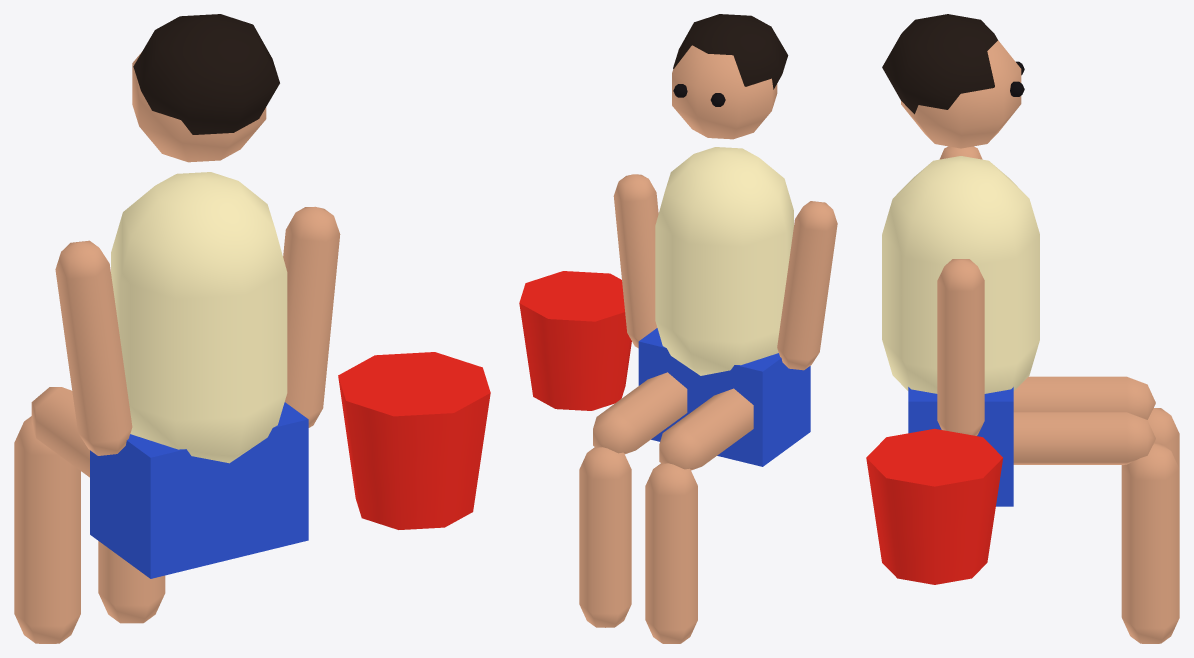
Rendered from tito_margem.glb.
3 renders of one model, left to right at view 1: azimuth 30°, elevation 25°; view 2: azimuth 150°, elevation 25°; view 3: azimuth 270°, elevation 25°, orthographic. The views are drawn at different scales.
Parts seen in each view (by area): view 1: _MeshInstance3D_7429_12, _MeshInstance3D_7430_11, _MeshInstance3D_7441_0, _MeshInstance3D_7438_3, _MeshInstance3D_7432_9, _MeshInstance3D_7435_6, _MeshInstance3D_7436_5, _MeshInstance3D_7437_4, _MeshInstance3D_7434_7, _MeshInstance3D_7431_10; view 2: _MeshInstance3D_7429_12, _MeshInstance3D_7441_0, _MeshInstance3D_7430_11, _MeshInstance3D_7434_7, _MeshInstance3D_7432_9, _MeshInstance3D_7435_6, _MeshInstance3D_7437_4, _MeshInstance3D_7436_5, _MeshInstance3D_7438_3, _MeshInstance3D_7431_10, _MeshInstance3D_7433_8; view 3: _MeshInstance3D_7429_12, _MeshInstance3D_7441_0, _MeshInstance3D_7434_7, _MeshInstance3D_7438_3, _MeshInstance3D_7436_5, _MeshInstance3D_7433_8, _MeshInstance3D_7437_4, _MeshInstance3D_7431_10, _MeshInstance3D_7430_11, _MeshInstance3D_7432_9.
Boxes of the visible parts, box(x1,y1,x2,y2) form: _MeshInstance3D_7429_12: box(111, 172, 287, 463); _MeshInstance3D_7430_11: box(90, 402, 308, 578); _MeshInstance3D_7441_0: box(338, 352, 490, 529); _MeshInstance3D_7438_3: box(133, 14, 279, 134); _MeshInstance3D_7432_9: box(14, 416, 80, 643); _MeshInstance3D_7435_6: box(55, 240, 132, 455); _MeshInstance3D_7436_5: box(283, 206, 340, 427); _MeshInstance3D_7437_4: box(132, 52, 266, 162); _MeshInstance3D_7434_7: box(98, 541, 165, 623); _MeshInstance3D_7431_10: box(31, 387, 89, 477); _MeshInstance3D_7429_12: box(655, 147, 793, 375); _MeshInstance3D_7441_0: box(519, 271, 631, 410); _MeshInstance3D_7430_11: box(638, 328, 810, 466); _MeshInstance3D_7434_7: box(579, 447, 631, 627); _MeshInstance3D_7432_9: box(645, 463, 697, 643); _MeshInstance3D_7435_6: box(777, 201, 837, 370); _MeshInstance3D_7437_4: box(672, 45, 777, 139); _MeshInstance3D_7436_5: box(613, 174, 658, 348); _MeshInstance3D_7438_3: box(673, 14, 788, 89); _MeshInstance3D_7431_10: box(659, 388, 753, 470); _MeshInstance3D_7433_8: box(593, 372, 687, 454); _MeshInstance3D_7429_12: box(882, 156, 1039, 393); _MeshInstance3D_7441_0: box(866, 428, 1002, 584); _MeshInstance3D_7434_7: box(1121, 443, 1179, 643); _MeshInstance3D_7438_3: box(882, 14, 997, 114); _MeshInstance3D_7436_5: box(937, 259, 984, 435); _MeshInstance3D_7433_8: box(1013, 412, 1155, 464); _MeshInstance3D_7437_4: box(901, 40, 1021, 148); _MeshInstance3D_7431_10: box(1013, 376, 1155, 419); _MeshInstance3D_7430_11: box(908, 387, 1013, 506); _MeshInstance3D_7432_9: box(1121, 408, 1179, 469).
Bounding box in the file's own units: 0.7702 × 1.27 × 0.595.
